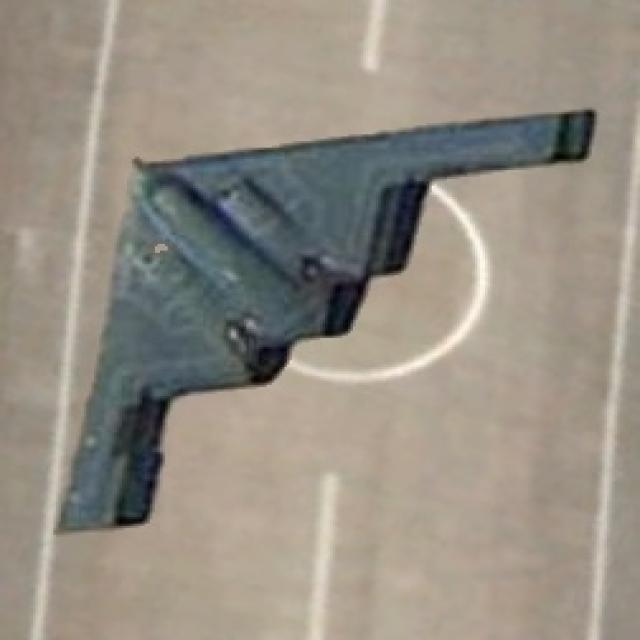B-2_TopDown: (48, 101, 597, 535)
